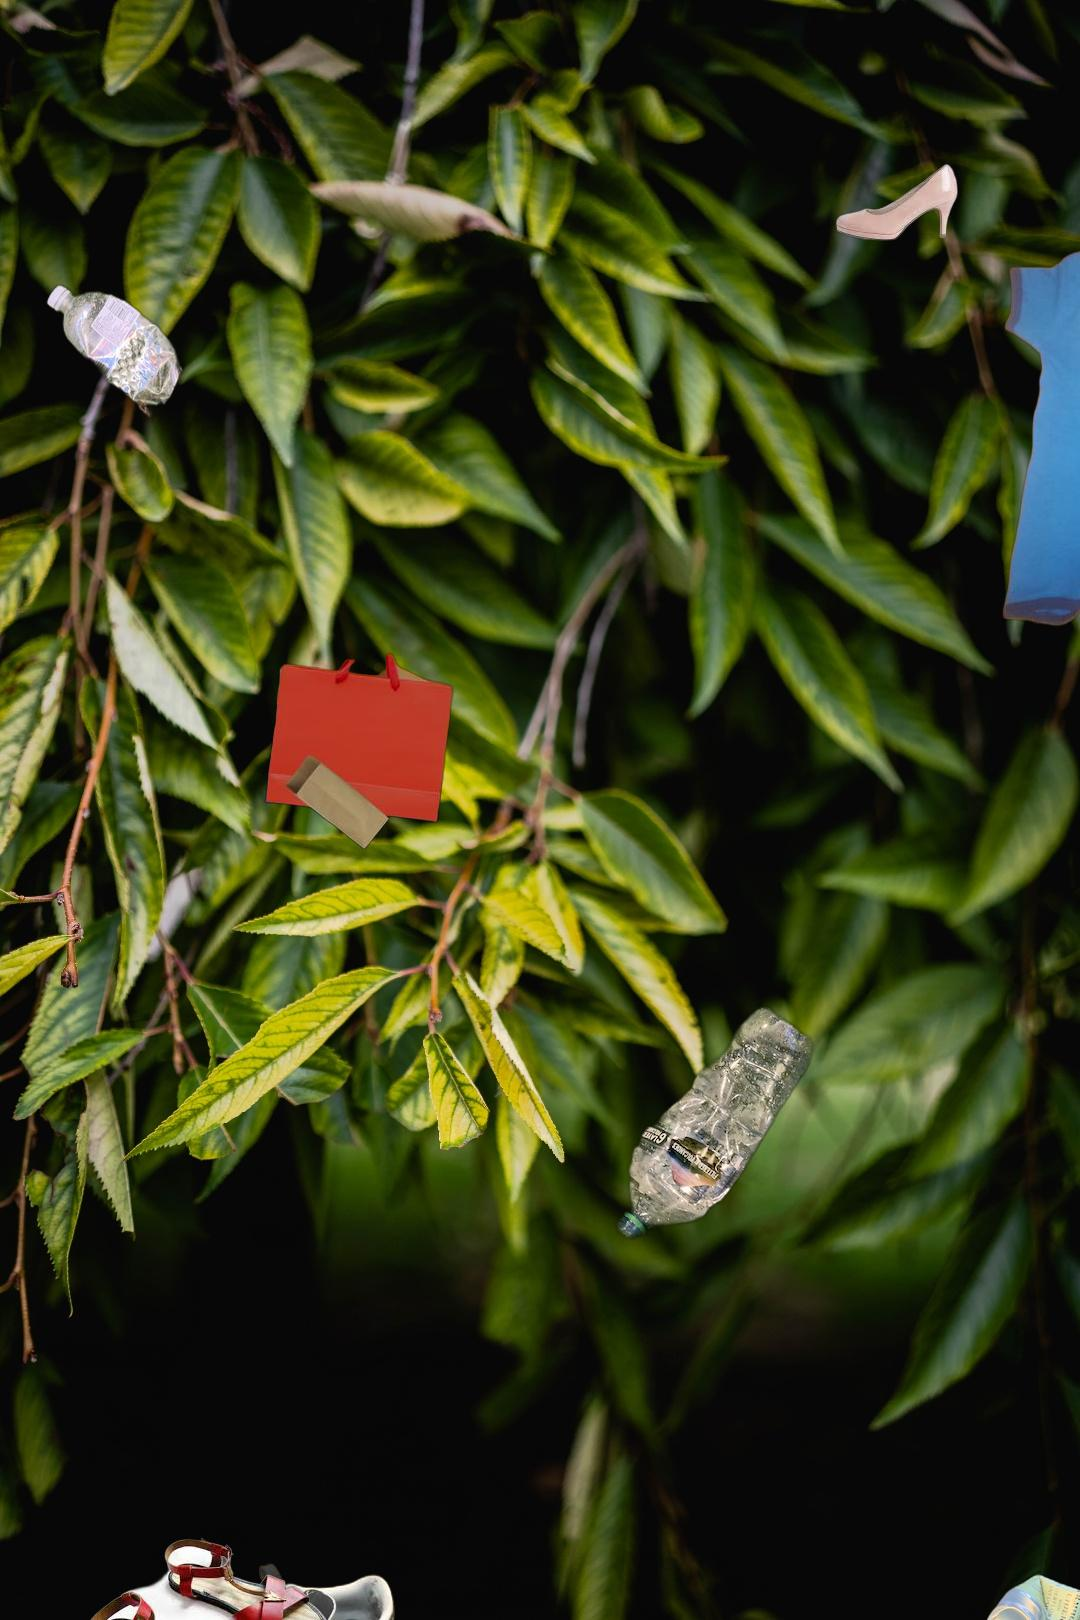clothes: (999, 242, 1080, 630)
metal-cans: (978, 1568, 1080, 1620)
paper-bag: (262, 651, 456, 852)
plastic-bottles: (611, 1000, 820, 1245), (42, 278, 187, 422)
shoes: (66, 1534, 334, 1620), (129, 1559, 487, 1620), (832, 160, 961, 242)
